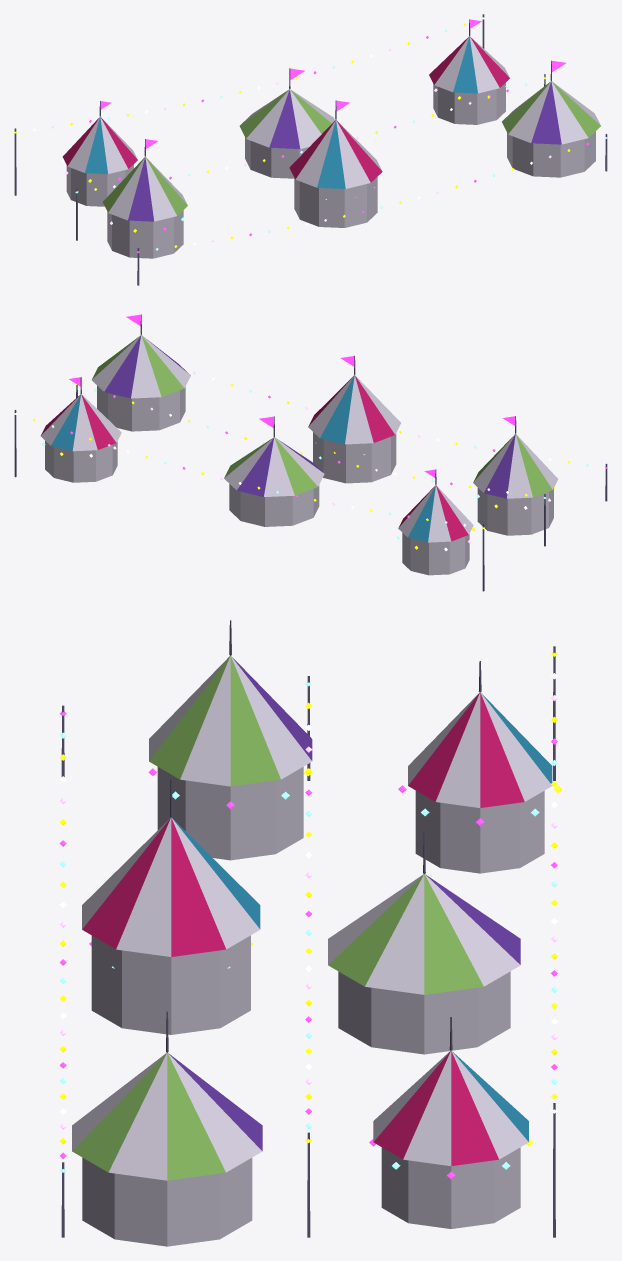
The model's file is W6_Mid_Tents.fbx.
3 renders of one model, top to bottom at view 1: azimuth 30°, elevation 25°; view 2: azimuth 150°, elevation 25°; view 3: azimuth 270°, elevation 25°, orthographic. The views are drawn at different scales.
Parts seen in each view (by area): view 1: W6_Mid_Tents; view 2: W6_Mid_Tents; view 3: W6_Mid_Tents.
Boxes of the visible parts, x1,y1,x2,y2 form: W6_Mid_Tents: [14, 14, 607, 285]; W6_Mid_Tents: [14, 314, 607, 591]; W6_Mid_Tents: [59, 620, 562, 1246].
Size of the model in its own units: 137 by 29.72 by 61.44.
